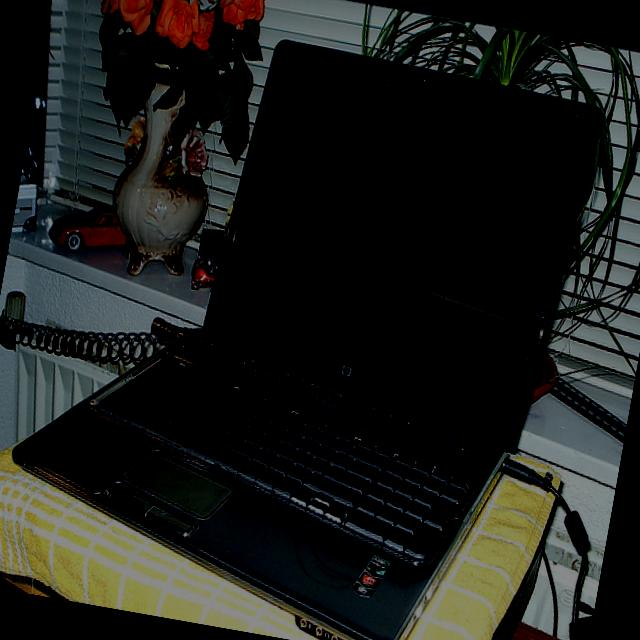Vehicle: (44, 196, 133, 264)
